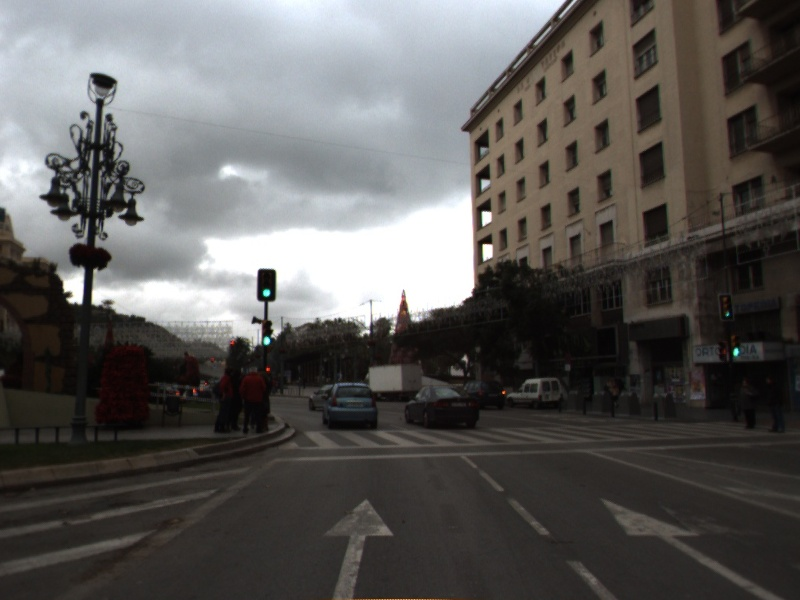STRAIGHT: (597, 495, 785, 600), (320, 496, 396, 600)
